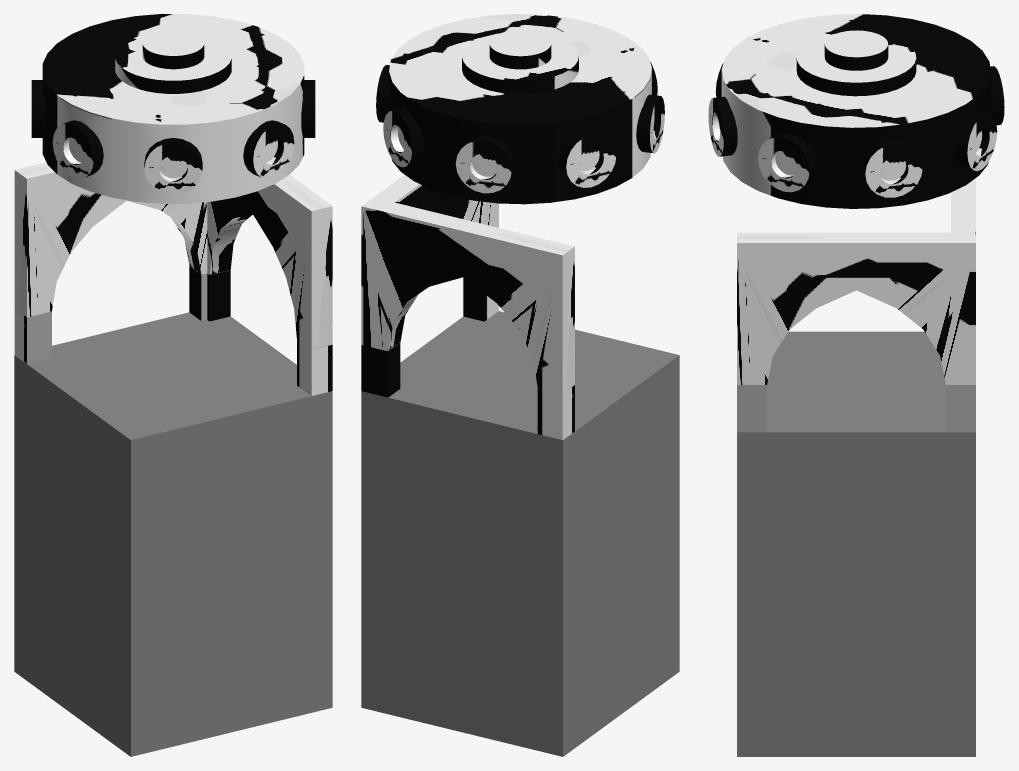
File: Mover_Ease in MR.fbx
3 renders of one model, left to right at view 1: azimuth 30°, elevation 25°; view 2: azimuth 150°, elevation 25°; view 3: azimuth 270°, elevation 25°, orthographic. The views are drawn at different scales.
Parts seen in each view (by area): view 1: Whitebox_cube, HandleMesh, aquaduct_waterArch (2), aquaduct_waterArch (5); view 2: Whitebox_cube, HandleMesh, aquaduct_waterArch (5), aquaduct_waterArch (2); view 3: Whitebox_cube, HandleMesh, aquaduct_waterArch (2), aquaduct_waterArch (5).
Part boxes in pixels (bbox=[...]): Whitebox_cube: bbox=[14, 312, 332, 756]; HandleMesh: bbox=[31, 14, 315, 203]; aquaduct_waterArch (2): bbox=[207, 174, 332, 395]; aquaduct_waterArch (5): bbox=[14, 162, 207, 363]; Whitebox_cube: bbox=[361, 311, 679, 756]; HandleMesh: bbox=[376, 14, 664, 204]; aquaduct_waterArch (5): bbox=[363, 198, 574, 439]; aquaduct_waterArch (2): bbox=[361, 174, 498, 391]; Whitebox_cube: bbox=[737, 331, 975, 756]; HandleMesh: bbox=[708, 14, 1004, 208]; aquaduct_waterArch (2): bbox=[737, 232, 975, 432]; aquaduct_waterArch (5): bbox=[951, 178, 975, 241].
Size of the model in its own units: 2.48 by 6.13 by 2.48.
